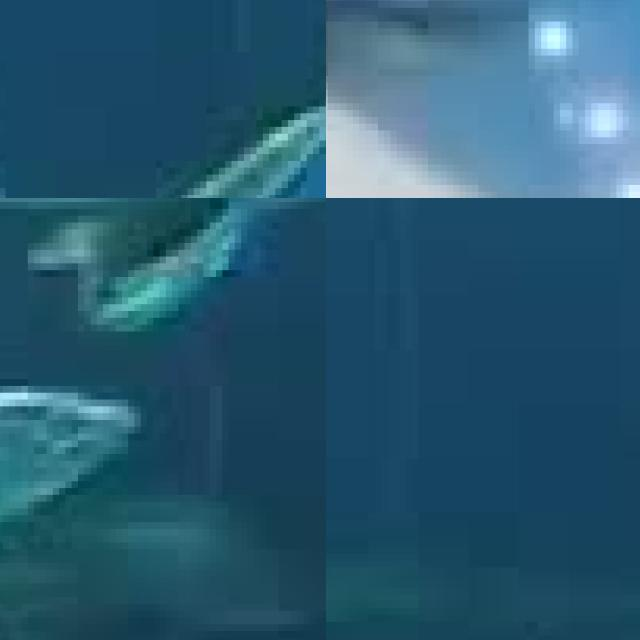fish: (0, 0, 326, 198), (0, 372, 147, 576)
